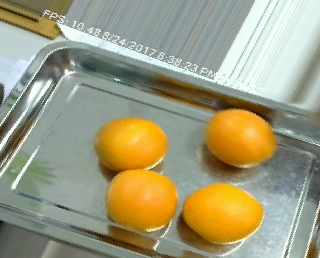Orange: (182, 182, 265, 243), (104, 168, 178, 233), (205, 108, 277, 169), (93, 117, 169, 172)
